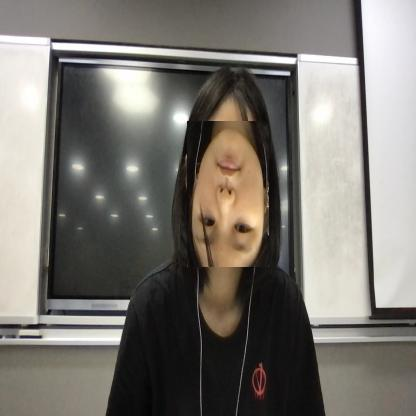happy: (187, 121, 270, 268)
